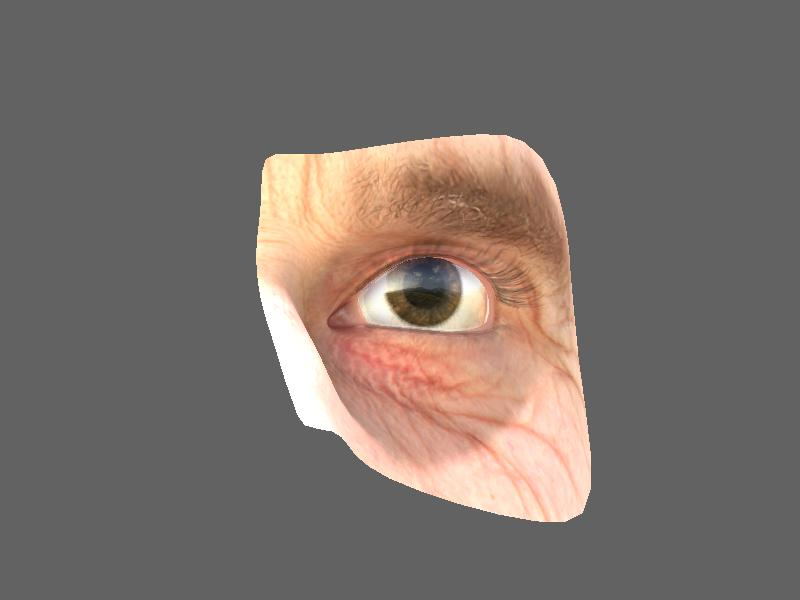iris: (386, 255, 466, 323)
